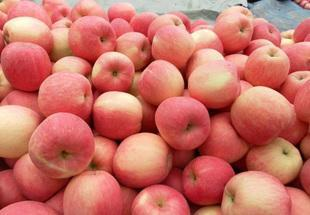apple: (28, 112, 96, 179), (230, 85, 296, 145), (113, 131, 174, 188), (155, 96, 211, 153), (221, 170, 292, 214), (180, 155, 234, 207), (61, 169, 123, 213), (92, 90, 143, 140), (187, 61, 240, 109), (1, 41, 51, 89), (1, 104, 41, 159), (243, 43, 290, 89), (138, 59, 184, 105), (67, 16, 117, 57), (91, 51, 134, 93), (252, 20, 281, 47)
